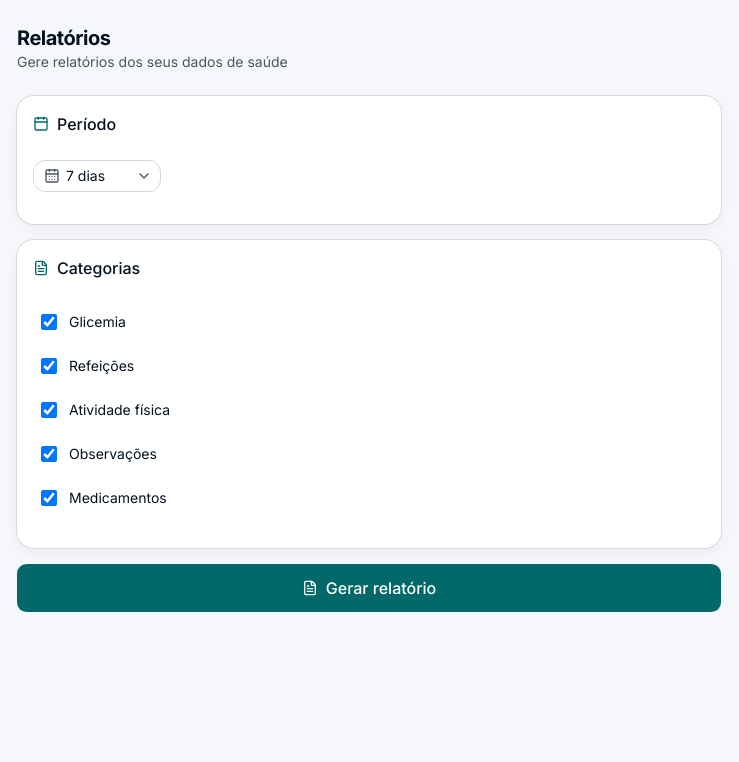
Scenario: ReportsWidget › does not show a toast when generating the report
The image size is (739, 762).
Click the button "Gerar relatório". click: {"x": 369, "y": 588}
box: [17,564,721,612]
(page scrolled)
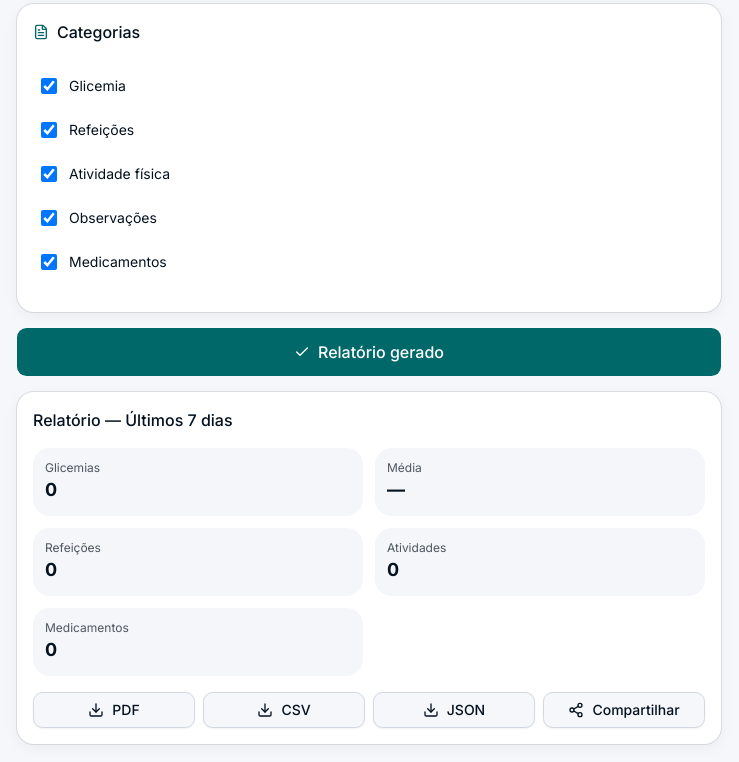
Check: the button "PDF" is shown, box [33,692,195,728]
